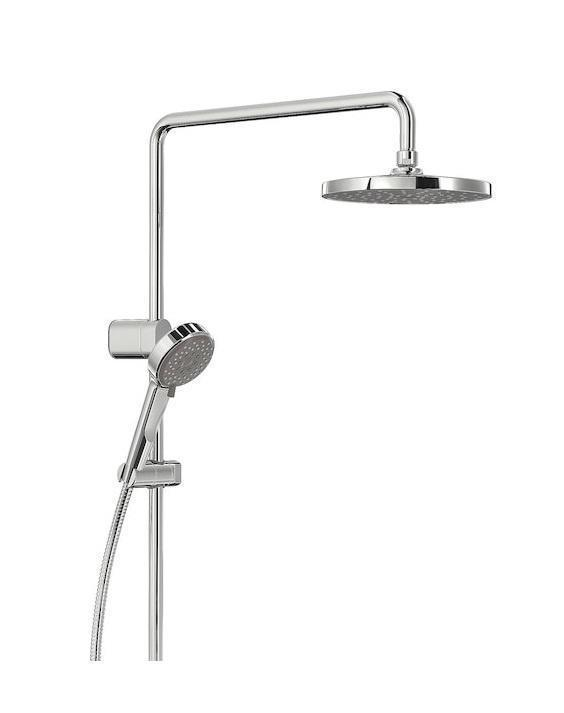Ducha: (54, 51, 491, 649)
